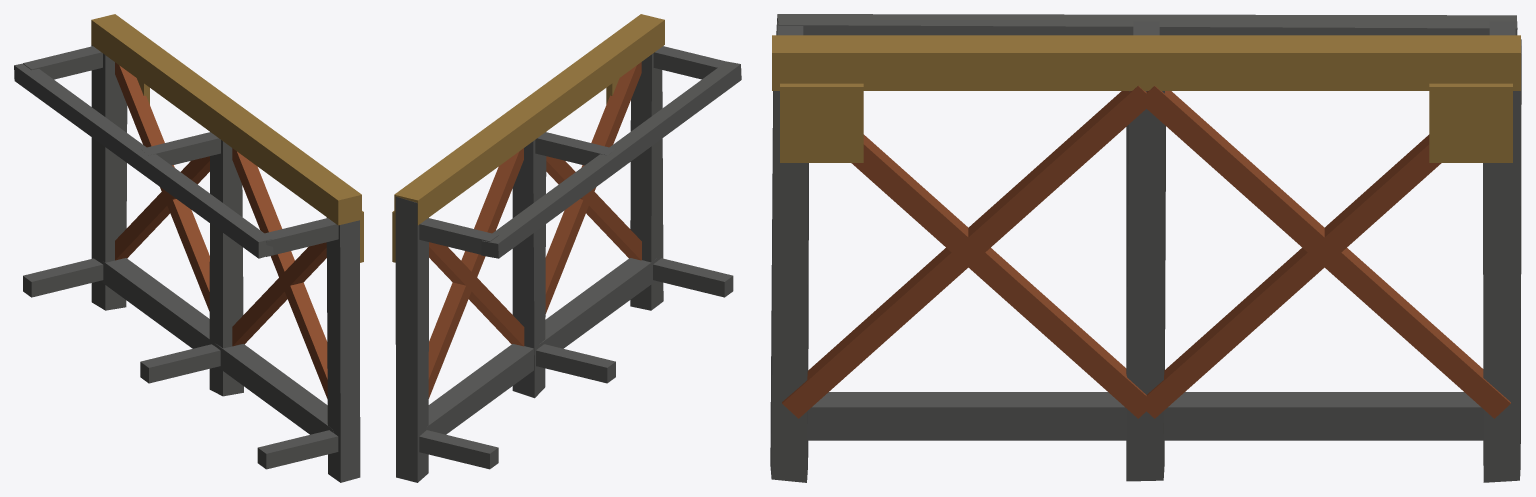
Rendered from arm_reinforced_cage.glb.
3 renders of one model, left to right at view 1: azimuth 30°, elevation 25°; view 2: azimuth 150°, elevation 25°; view 3: azimuth 270°, elevation 25°, orthographic. The views are drawn at different scales.
Visible parts, largest first — view 1: arm_reinforced_cage; view 2: arm_reinforced_cage; view 3: arm_reinforced_cage.
Boxes of the visible parts, x1,y1,x2,y2 form: arm_reinforced_cage: [14, 14, 363, 482]; arm_reinforced_cage: [392, 14, 741, 482]; arm_reinforced_cage: [770, 14, 1521, 482].
Bounding box in the file's own units: 0.3589 × 0.9089 × 1.44.
